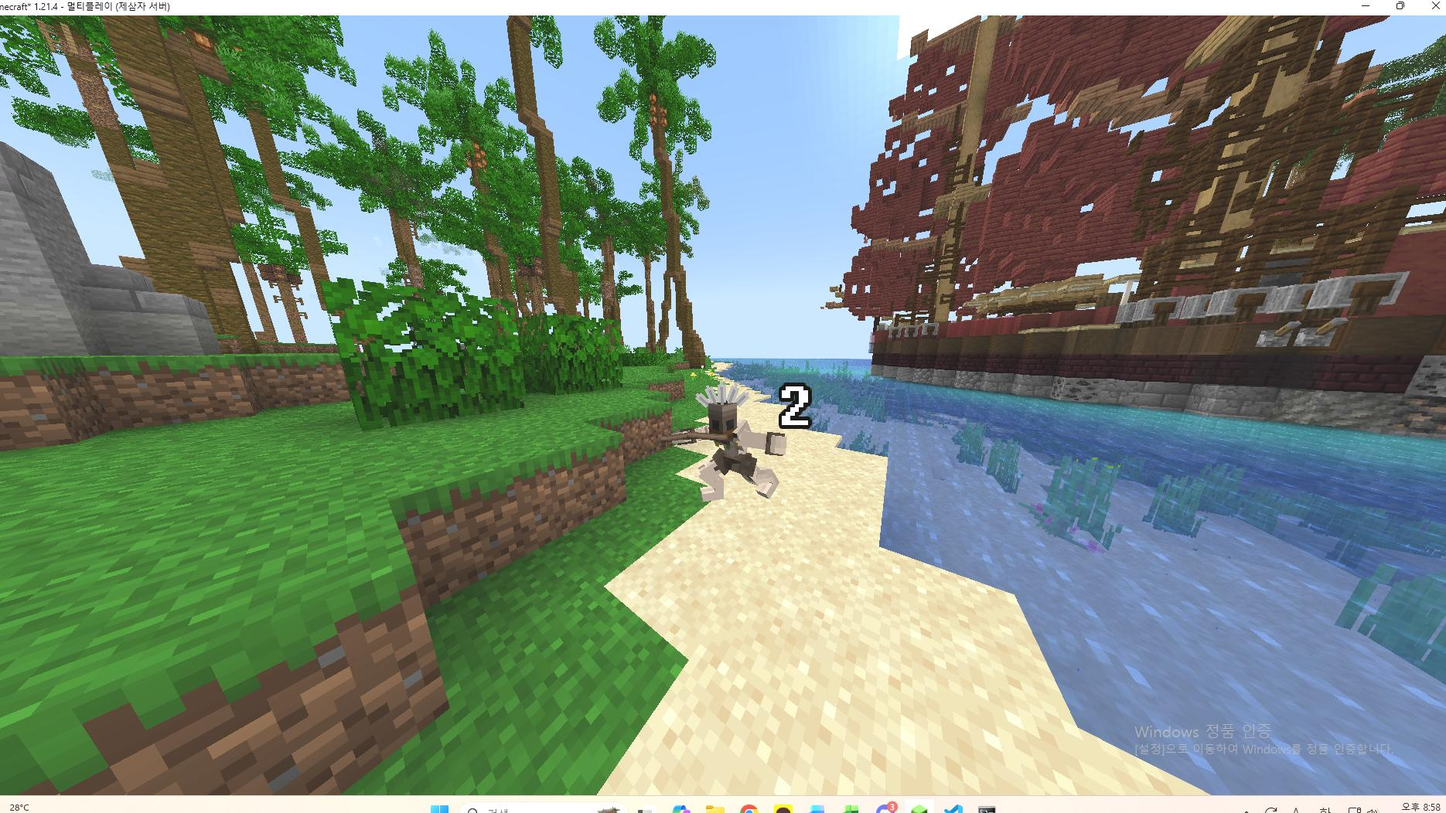bow_indian: (665, 381, 821, 515)
